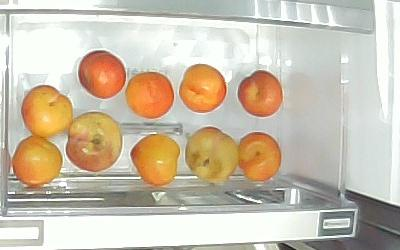prune: (66, 113, 123, 172), (185, 126, 240, 184), (129, 133, 181, 187), (21, 85, 73, 138), (11, 135, 63, 188), (77, 49, 128, 100), (126, 71, 175, 120), (180, 63, 227, 114), (237, 70, 285, 118), (238, 133, 282, 181)
